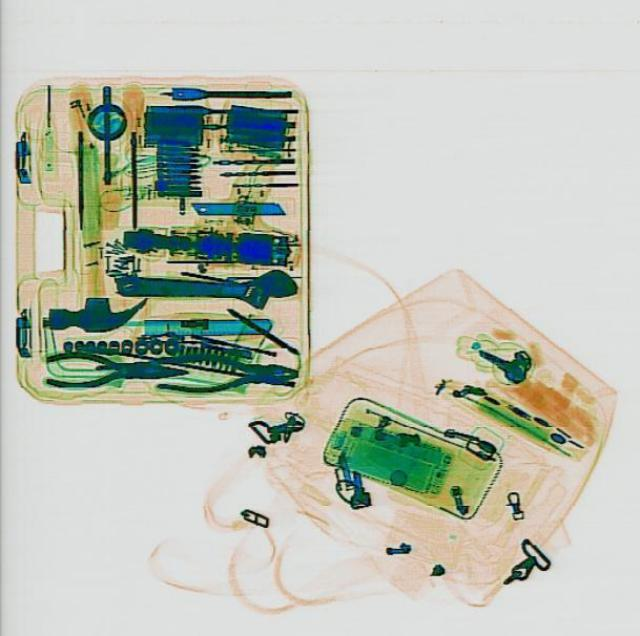Pliers: (154, 351, 298, 392), (43, 350, 184, 388)
Wrench: (115, 265, 297, 307)
